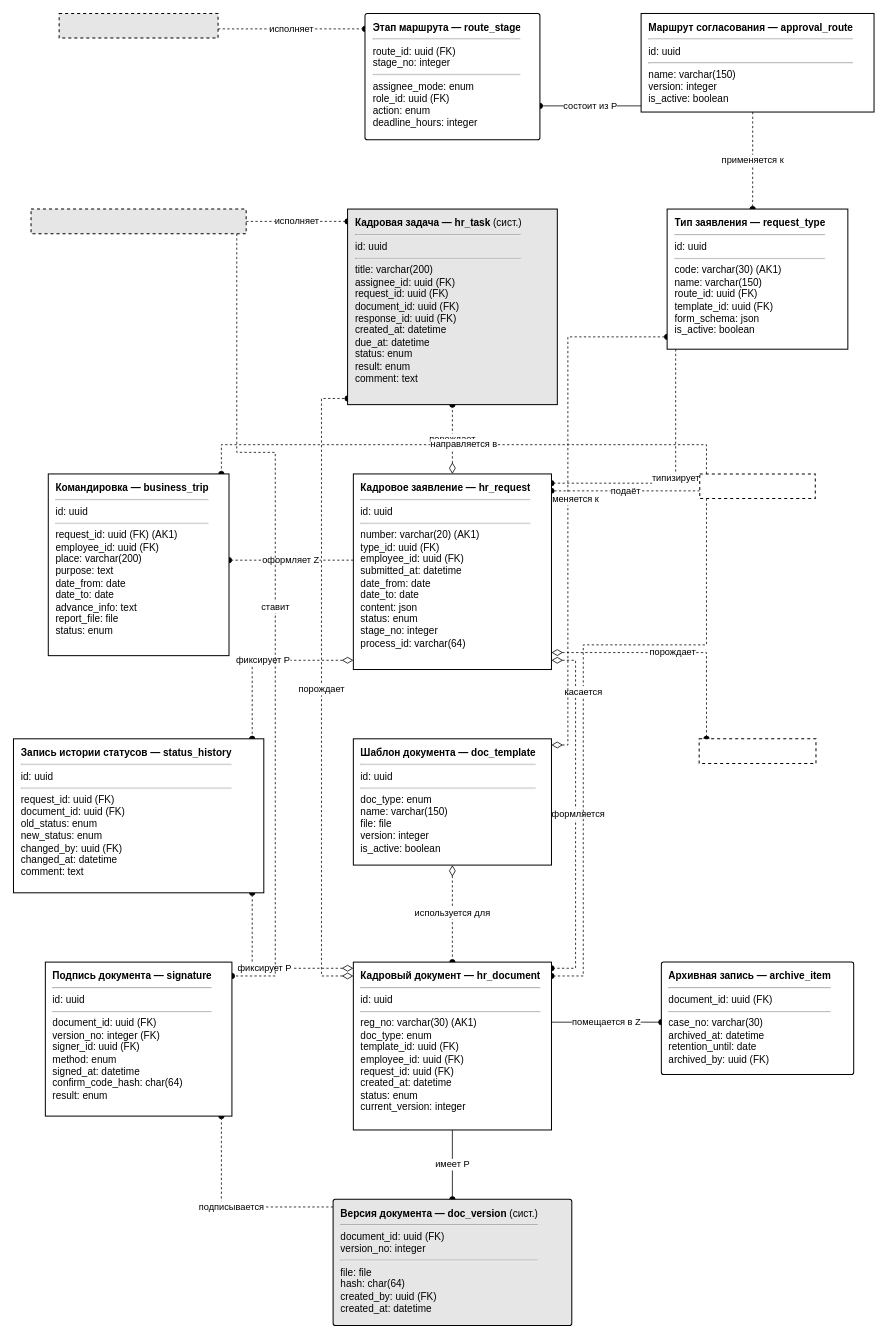
This 888x1341 diagram has some shape labels left out. The centre of each missing label's shape, as x and y in pixels:
"Запись графика" goes at (x=757, y=751).
"Пользователь (сист.)" goes at (x=138, y=221).
"Роль (сист.)" goes at (x=138, y=25).
"Сотрудник" goes at (x=757, y=486).
